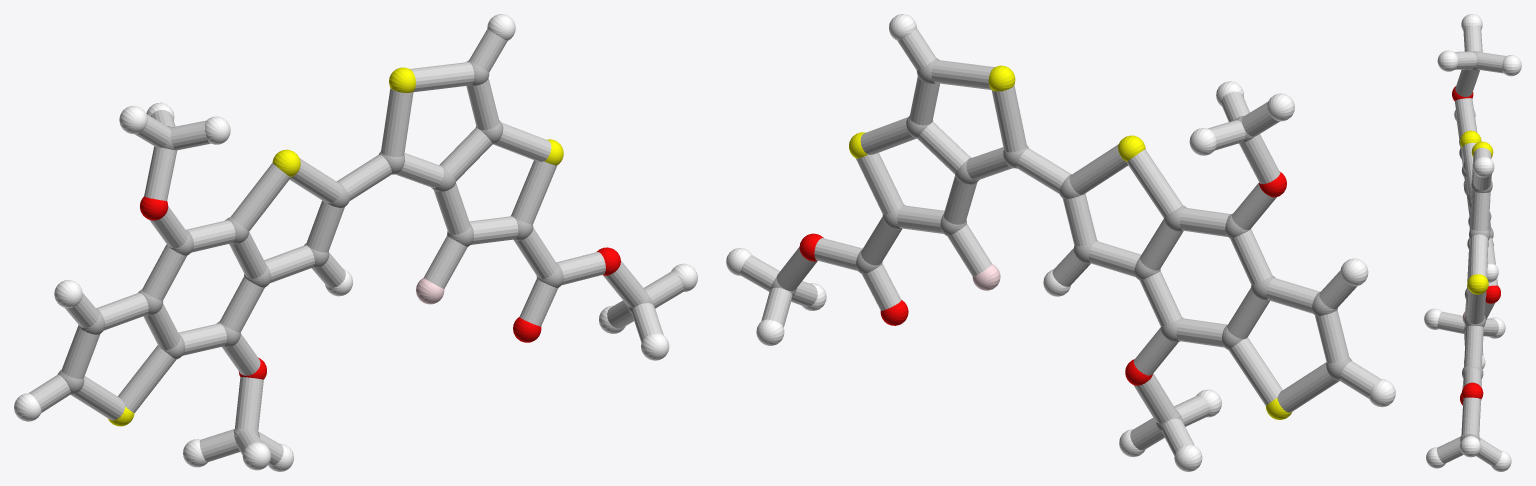
The model's file is color.glb.
3 renders of one model, left to right at view 1: azimuth 30°, elevation 25°; view 2: azimuth 150°, elevation 25°; view 3: azimuth 270°, elevation 25°, orthographic. The views are drawn at different scales.
Parts seen in each view (by area): view 1: grp15205, grp8689, grp1, grp7241, grp13395; view 2: grp15205, grp8689, grp1, grp7241, grp13395; view 3: grp15205, grp8689, grp1, grp7241, grp13395.
Boxes of the visible parts, x1,y1,x2,y2 form: grp15205: (29,29,683,465); grp8689: (14,14,697,471); grp1: (57,60,653,440); grp7241: (108,67,563,426); grp13395: (140,196,620,379); grp15205: (740,28,1380,455); grp8689: (726,14,1395,471); grp1: (770,58,1351,432); grp7241: (849,65,1291,419); grp13395: (799,172,1286,385); grp15205: (1436,26,1505,465); grp8689: (1424,14,1521,471); grp1: (1459,51,1493,441); grp7241: (1460,130,1493,294); grp13395: (1452,86,1500,405).
Bounding box in the file's own units: 16.48 × 9.32 × 2.73.
